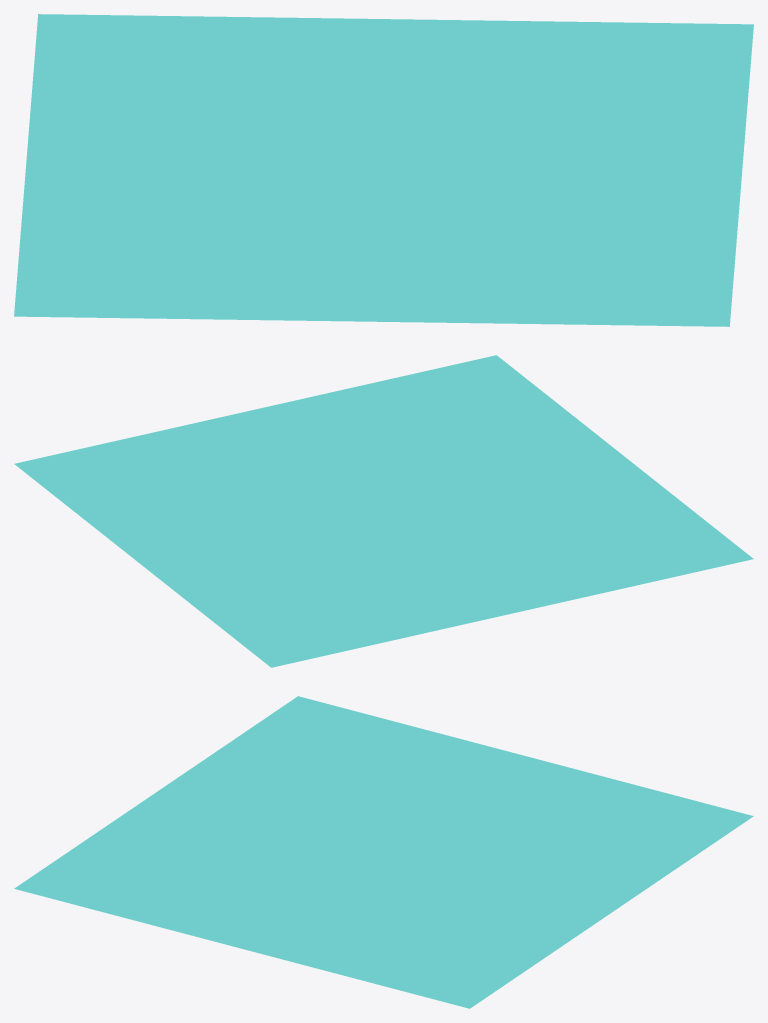
The model's file is water.fbx.
3 renders of one model, top to bottom at view 1: azimuth 30°, elevation 25°; view 2: azimuth 150°, elevation 25°; view 3: azimuth 270°, elevation 25°, orthographic. The views are drawn at different scales.
Parts seen in each view (by area): view 1: Landscape_plane.001; view 2: Landscape_plane.001; view 3: Landscape_plane.001.
Boxes of the visible parts, <box> form: Landscape_plane.001: <box>14,14,753,326</box>; Landscape_plane.001: <box>14,355,753,667</box>; Landscape_plane.001: <box>14,696,753,1008</box>.
Bounding box in the file's own units: 9282 × 0.00151 × 9282.
